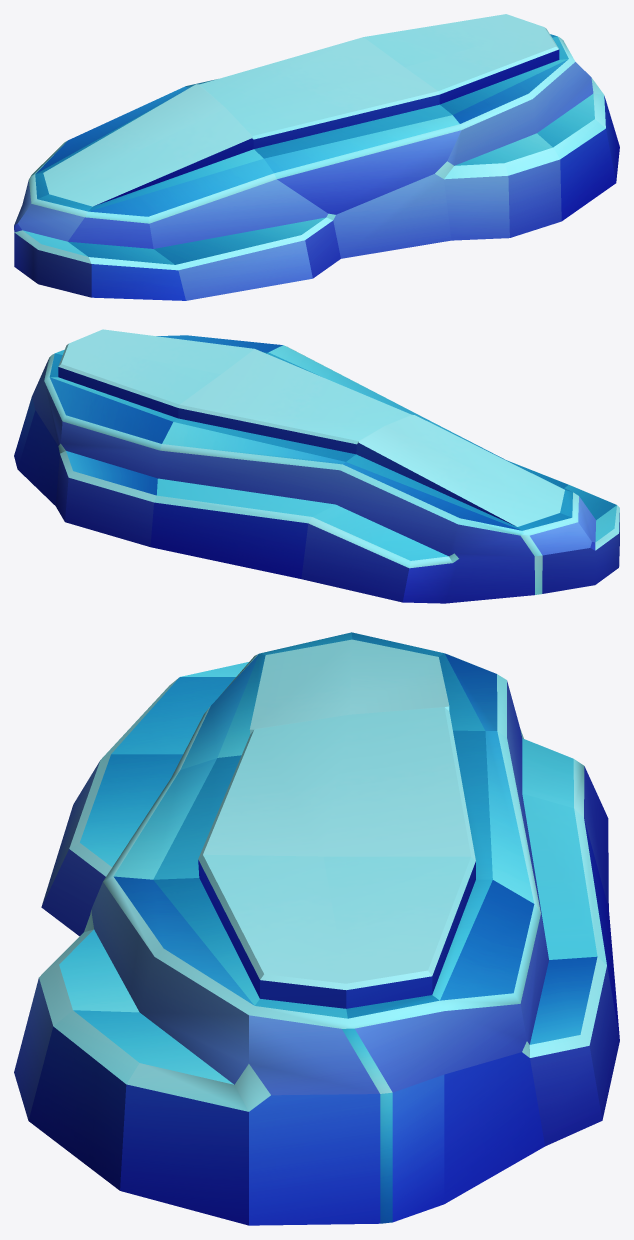
The model's file is flatStone.fbx.
The picture shows the model from 3 angles, top to bottom: view 1: azimuth 30°, elevation 25°; view 2: azimuth 150°, elevation 25°; view 3: azimuth 270°, elevation 25°; orthographic projection. The views are drawn at different scales.
Visible parts, largest first — view 1: rockFLat; view 2: rockFLat; view 3: rockFLat.
Part boxes in pixels (box(x1,y1,x2,y2)): rockFLat: box(14, 14, 619, 300); rockFLat: box(14, 329, 619, 603); rockFLat: box(14, 632, 619, 1225).
Size of the model in its own units: 249 by 46.98 by 127.
